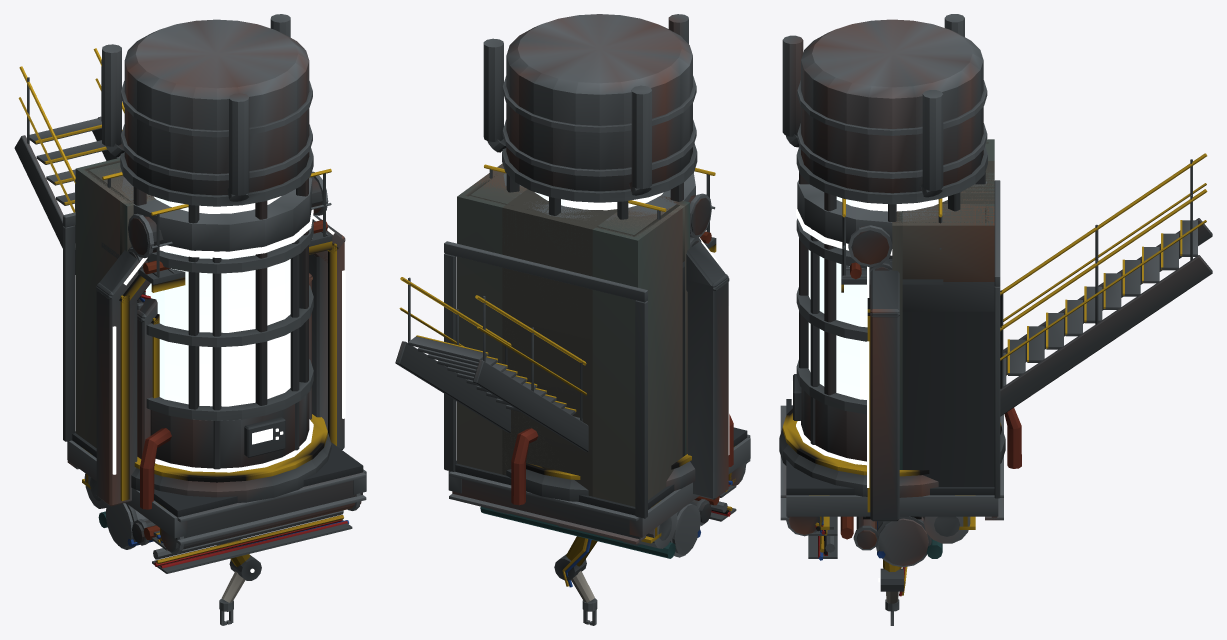
The model's file is neon.glb.
The picture shows the model from 3 angles, left to right: view 1: azimuth 30°, elevation 25°; view 2: azimuth 150°, elevation 25°; view 3: azimuth 270°, elevation 25°; orthographic projection. The views are drawn at different scales.
Parts seen in each view (by area): view 1: reaktor1_stahl, tor3_stahl, aufzug1_glas, tor1_stahl, decke2_stahl, aufzug1_stahl, decke1_stahl, treppe1_stahl, fenster1_stahl, laufsteg1_stahl, tor3_licht, roboterarm2_stahl (+1 smaller); view 2: reaktor1_stahl, tor1_stahl, tor3_stahl, wand2_stahl, treppe1_stahl, decke1_stahl, decke2_stahl, wand3_stahl, wand1_stahl, fenster1_stahl, wand7_stahl, roboterarm2_stahl (+4 smaller); view 3: reaktor1_stahl, tor3_stahl, treppe1_stahl, decke2_stahl, aufzug1_glas, aufzug1_stahl, fenster1_stahl, decke1_stahl, tor1_stahl, roboterarm2_stahl, laufsteg1_stahl, reaktor1_kern.
Part boxes in pixels (left/top/right/bottom): reaktor1_stahl: left=102, top=14, right=331, bottom=509; tor3_stahl: left=63, top=165, right=345, bottom=506; aufzug1_glas: left=145, top=209, right=313, bottom=472; tor1_stahl: left=75, top=158, right=312, bottom=458; decke2_stahl: left=67, top=435, right=366, bottom=573; aufzug1_stahl: left=122, top=177, right=312, bottom=469; decke1_stahl: left=67, top=431, right=366, bottom=544; treppe1_stahl: left=14, top=48, right=124, bottom=274; fenster1_stahl: left=83, top=160, right=328, bottom=309; laufsteg1_stahl: left=101, top=168, right=332, bottom=292; tor3_licht: left=112, top=215, right=345, bottom=474; roboterarm2_stahl: left=217, top=539, right=261, bottom=625; reaktor1_stahl: left=483, top=14, right=733, bottom=505; tor1_stahl: left=457, top=173, right=682, bottom=506; tor3_stahl: left=444, top=163, right=729, bottom=518; wand2_stahl: left=502, top=191, right=592, bottom=495; treppe1_stahl: left=395, top=277, right=588, bottom=451; decke1_stahl: left=449, top=427, right=750, bottom=548; decke2_stahl: left=448, top=432, right=750, bottom=558; wand3_stahl: left=502, top=206, right=617, bottom=496; wand1_stahl: left=502, top=189, right=592, bottom=475; fenster1_stahl: left=465, top=176, right=711, bottom=455; wand7_stahl: left=502, top=208, right=571, bottom=467; roboterarm2_stahl: left=554, top=536, right=597, bottom=625; reaktor1_stahl: left=779, top=14, right=1021, bottom=497; tor3_stahl: left=867, top=179, right=1000, bottom=521; treppe1_stahl: left=1000, top=153, right=1212, bottom=416; decke2_stahl: left=786, top=490, right=998, bottom=567; aufzug1_glas: left=796, top=207, right=892, bottom=465; aufzug1_stahl: left=797, top=180, right=986, bottom=444; fenster1_stahl: left=848, top=142, right=989, bottom=469; decke1_stahl: left=780, top=399, right=1003, bottom=543; tor1_stahl: left=907, top=139, right=994, bottom=225; roboterarm2_stahl: left=880, top=560, right=907, bottom=625; laufsteg1_stahl: left=841, top=198, right=943, bottom=292; reaktor1_kern: left=791, top=196, right=947, bottom=405.
Bounding box in the file's own units: 3.7 × 8.55 × 5.94.
